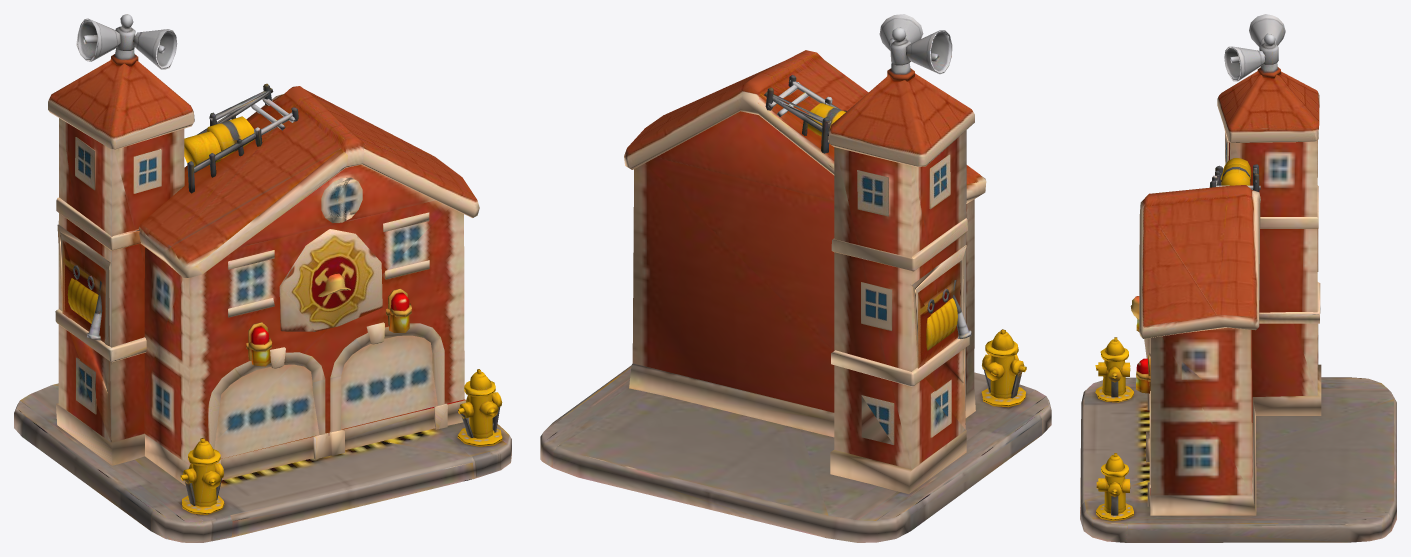
The model's file is fire_station.glb.
3 renders of one model, left to right at view 1: azimuth 30°, elevation 25°; view 2: azimuth 150°, elevation 25°; view 3: azimuth 270°, elevation 25°, orthographic. The views are drawn at different scales.
Parts seen in each view (by area): view 1: geometry_0; view 2: geometry_0; view 3: geometry_0.
Part boxes in pixels (x1,y1,x2,y2): geometry_0: (14,14,511,542); geometry_0: (540,14,1051,542); geometry_0: (1080,14,1396,542).
Bounding box in the file's own units: 0.7861 × 0.9531 × 0.7046.
Materials: 1 (1 with a texture image).
